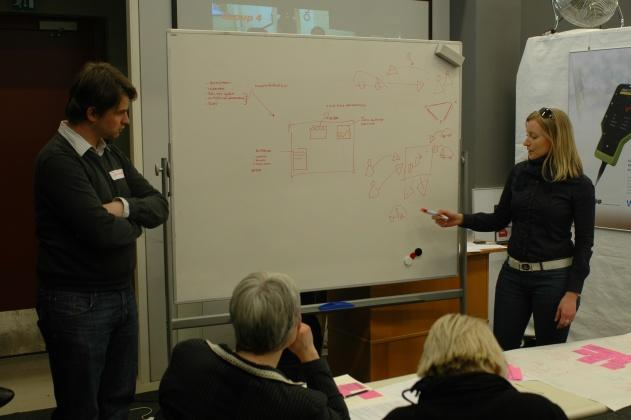Whiteboard: (165, 28, 463, 307)
